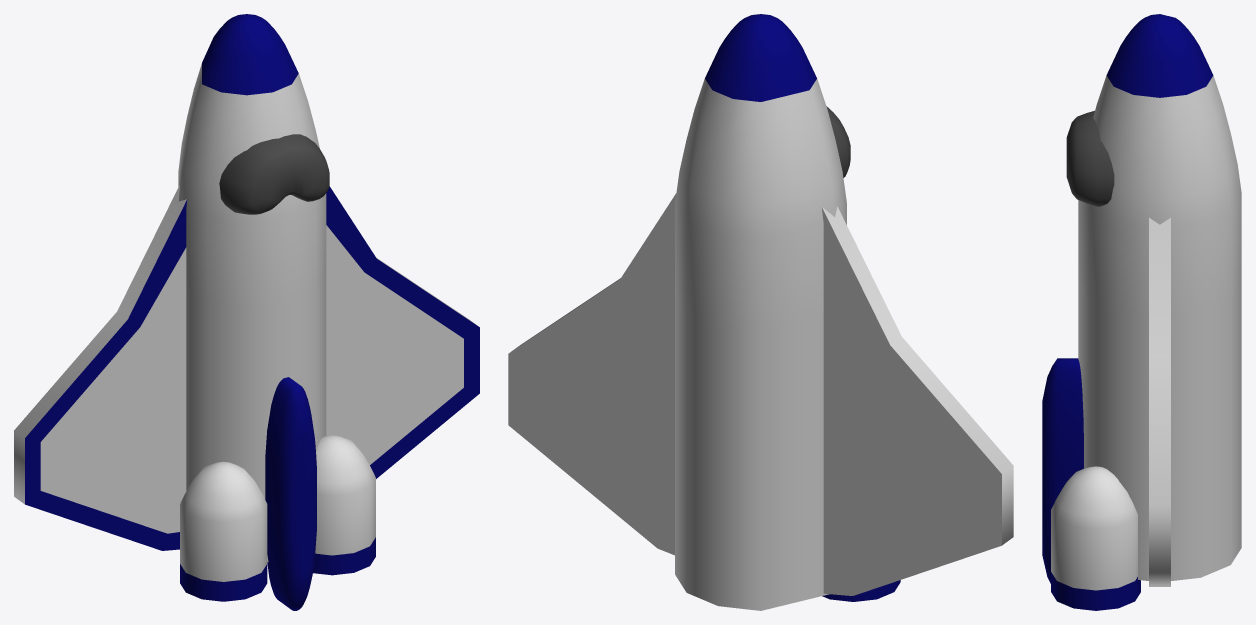
File: space shuttle rocket.fbx
3 renders of one model, left to right at view 1: azimuth 30°, elevation 25°; view 2: azimuth 150°, elevation 25°; view 3: azimuth 270°, elevation 25°, orthographic. The views are drawn at different scales.
Parts seen in each view (by area): view 1: Cylinder; view 2: Cylinder; view 3: Cylinder.
Part boxes in pixels (x1,y1,x2,y2): Cylinder: (14, 14, 479, 610); Cylinder: (508, 14, 1013, 610); Cylinder: (1042, 14, 1241, 610).
Bounding box in the file's own units: 2.44 × 2.86 × 0.8961.
